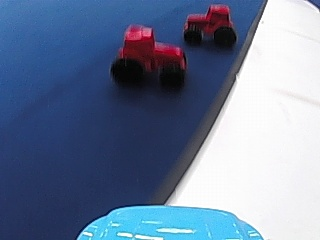Tracktor: (107, 24, 191, 88), (181, 2, 238, 49)
